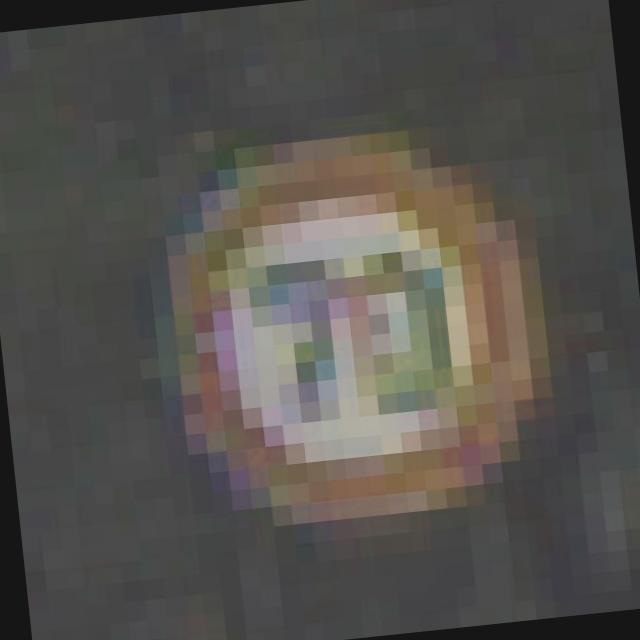Ograniczenie predkosci do 70: (169, 121, 557, 539)
